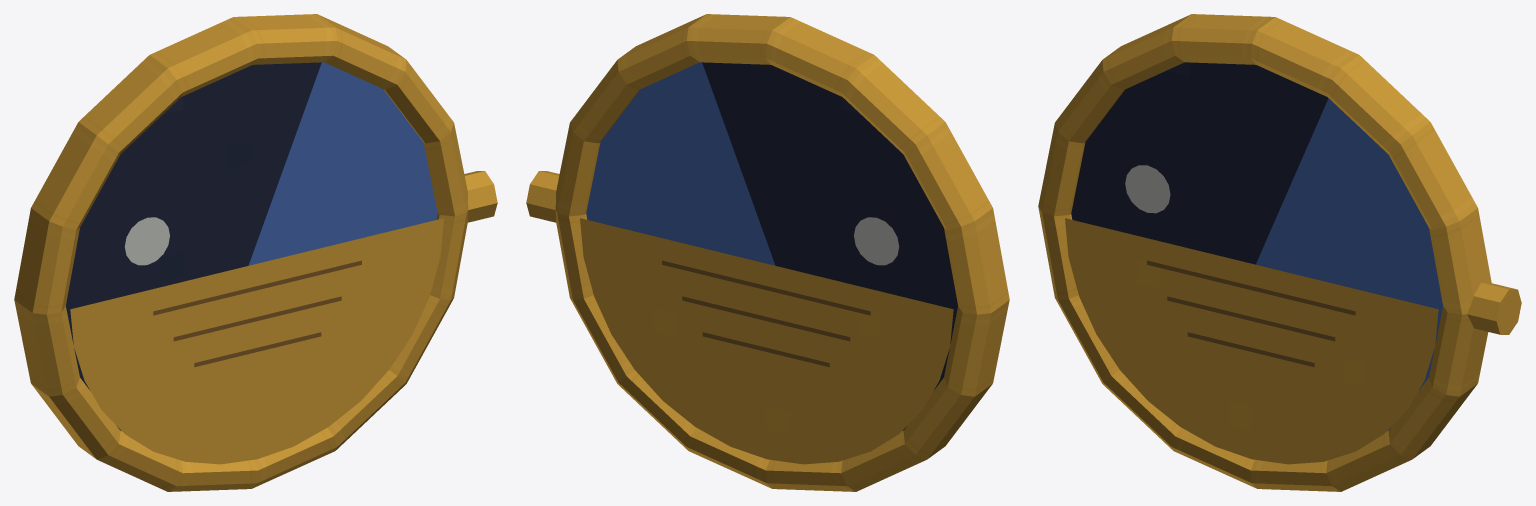
File: clock_20.obj
3 views of the same model, side by side, from view 1: azimuth 30°, elevation 25°; view 2: azimuth 150°, elevation 25°; view 3: azimuth 330°, elevation 25° (orthographic).
Size of the model in its own units: 0.6363 by 0.6037 by 0.075.
